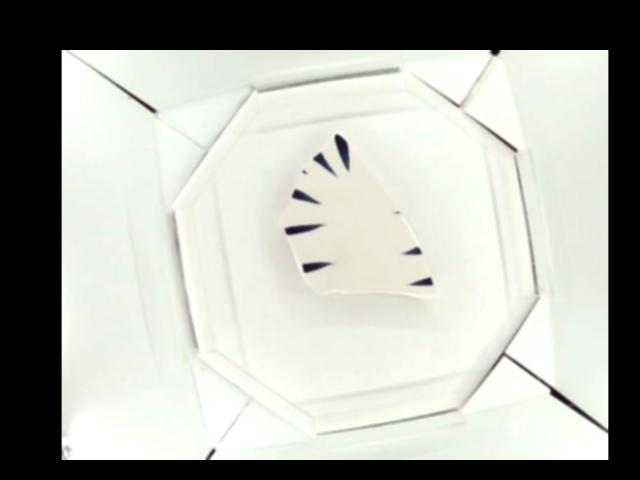China: (281, 129, 440, 299)
